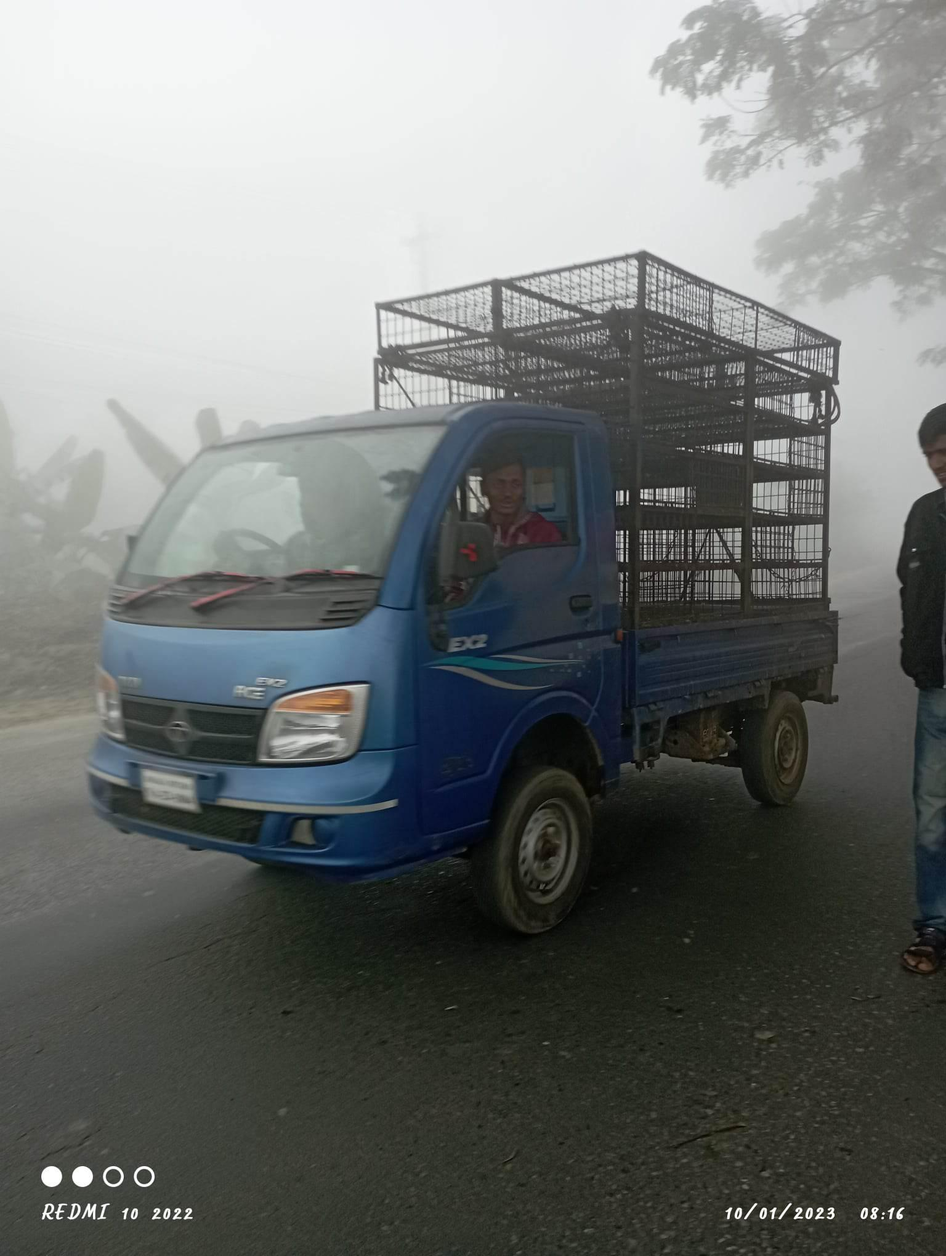Truck: (94, 231, 867, 938)
